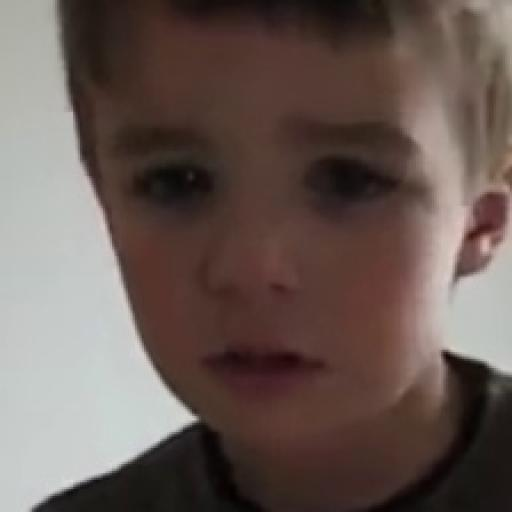Autism: (48, 11, 512, 506)
